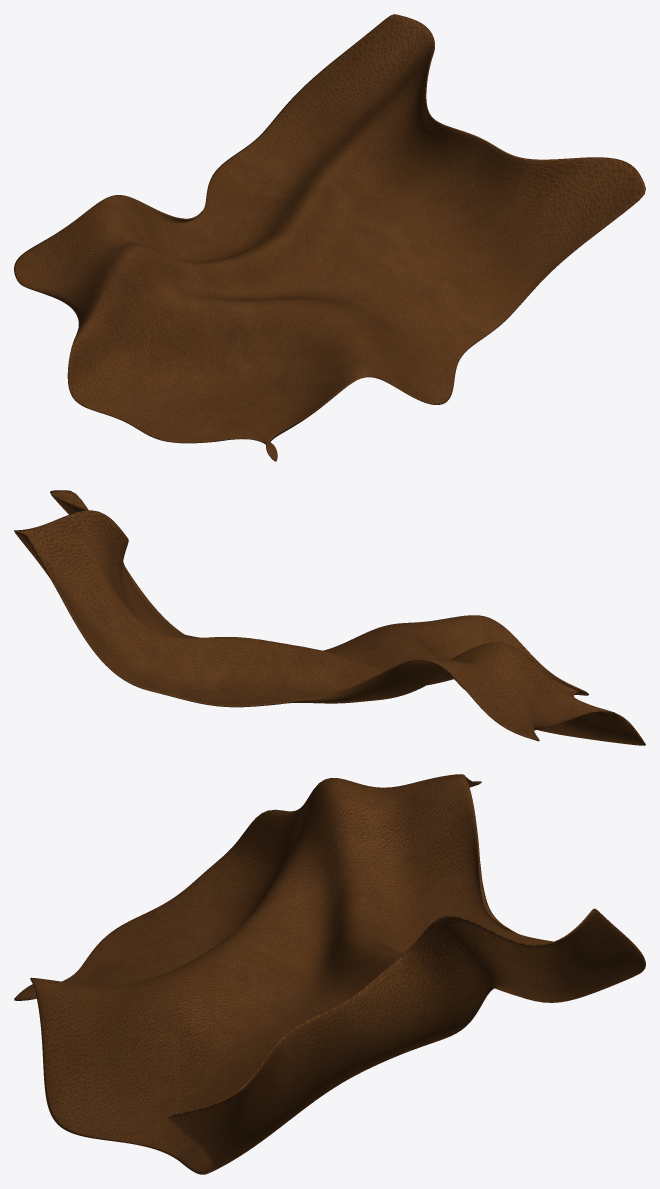
The model's file is cuero_caprino_v003_candidate.glb.
The picture shows the model from 3 angles, top to bottom: view 1: azimuth 30°, elevation 25°; view 2: azimuth 150°, elevation 25°; view 3: azimuth 270°, elevation 25°; orthographic projection. The views are drawn at different scales.
Parts seen in each view (by area): view 1: Vegetable tanned caprino naturally folded hide; view 2: Vegetable tanned caprino naturally folded hide; view 3: Vegetable tanned caprino naturally folded hide.
Part boxes in pixels (bbox=[...]): Vegetable tanned caprino naturally folded hide: bbox=[14, 14, 645, 461]; Vegetable tanned caprino naturally folded hide: bbox=[14, 490, 645, 745]; Vegetable tanned caprino naturally folded hide: bbox=[14, 774, 645, 1174].
Size of the model in its own units: 0.5899 by 0.2225 by 0.405.
Materials: 1 (1 with a texture image).
